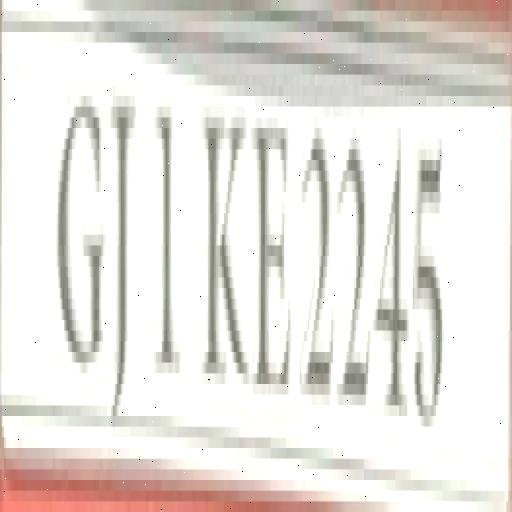number plate: (21, 32, 512, 512)
